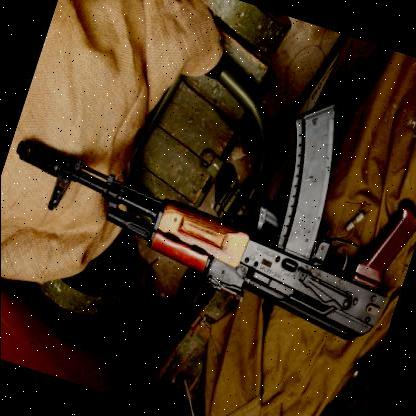rifle: (0, 30, 416, 367)
